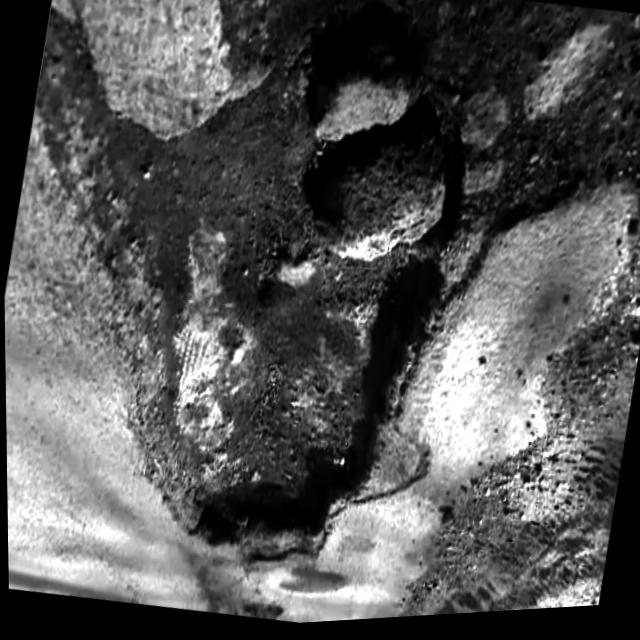pathole: (6, 0, 499, 622), (417, 0, 640, 379), (13, 0, 119, 241), (187, 560, 332, 626)
